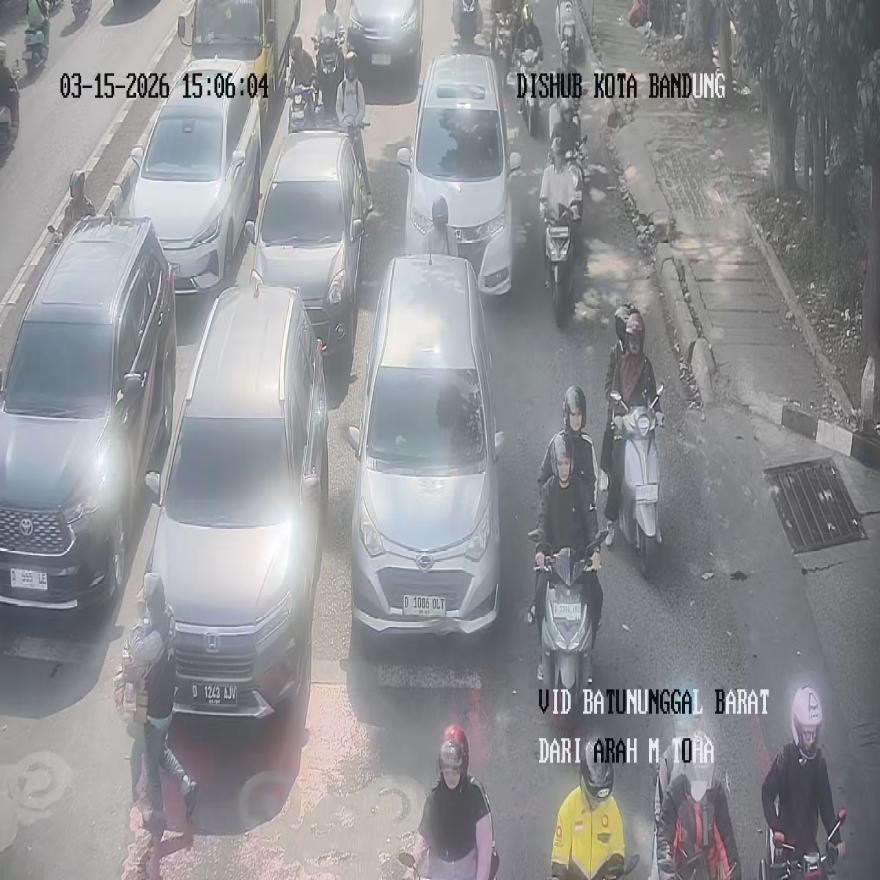Mobil: (143, 274, 329, 717), (0, 217, 177, 614), (346, 253, 504, 637), (127, 56, 261, 292), (245, 128, 366, 374), (397, 55, 522, 293), (176, 0, 278, 137), (346, 0, 423, 77)
Motor: (650, 731, 739, 880), (534, 539, 601, 730), (550, 737, 629, 879), (398, 777, 499, 880), (610, 386, 662, 578), (759, 808, 846, 880), (544, 206, 576, 328), (339, 112, 372, 216), (286, 33, 317, 131), (312, 31, 343, 111), (555, 0, 577, 106), (517, 49, 540, 137), (0, 58, 20, 150), (491, 9, 516, 78), (24, 6, 50, 70), (451, 0, 480, 49), (288, 82, 316, 132), (71, 0, 91, 21)
